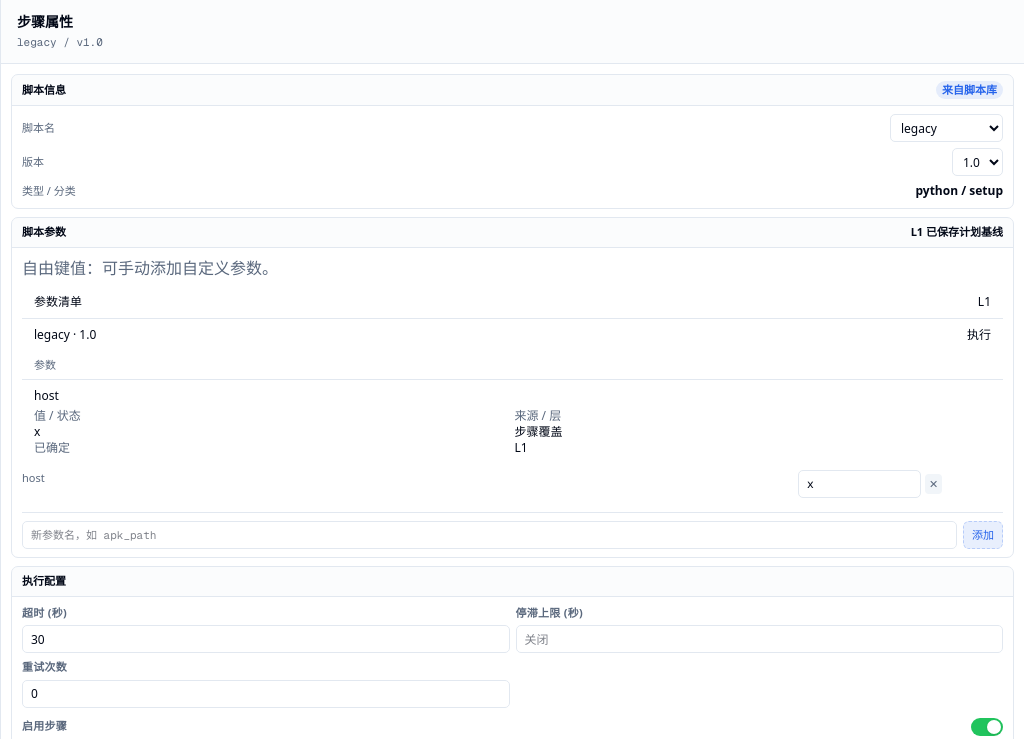
Scenario: PlanStepInspector › 参数表单 › 新增自由键与已存在键重名时报错
Type "host" into the field labelled "新参数名".
click(490, 535); type("host")  # box x1=22 y1=521 x2=957 y2=549
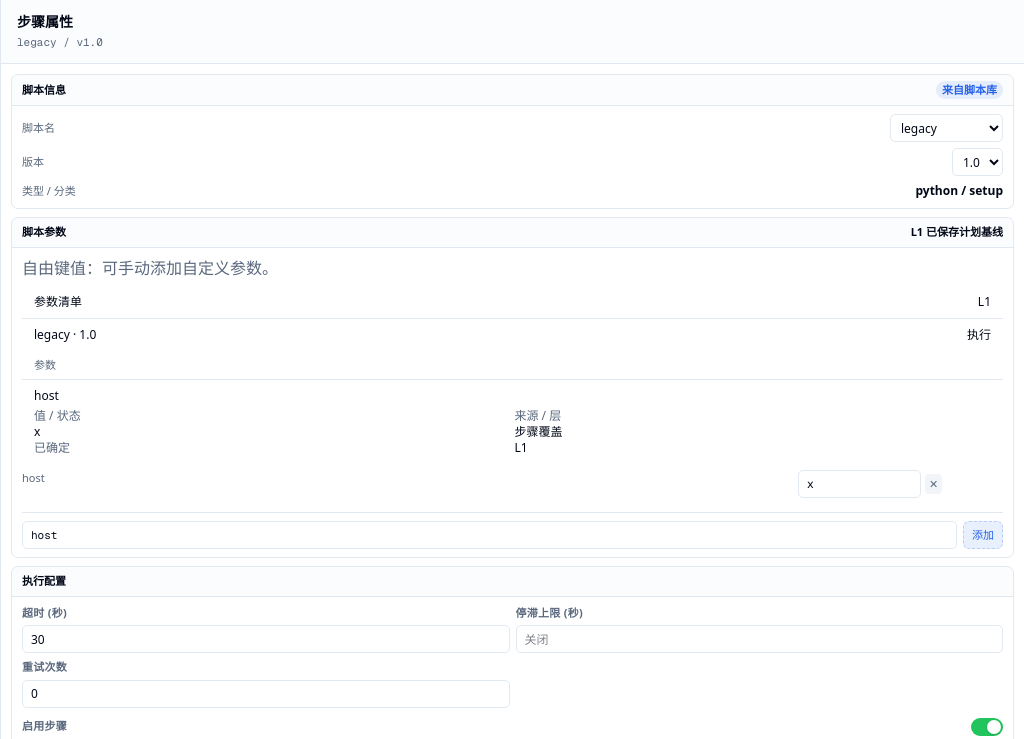
Click the button "添加".
click(983, 535)  # box x1=963 y1=521 x2=1003 y2=549
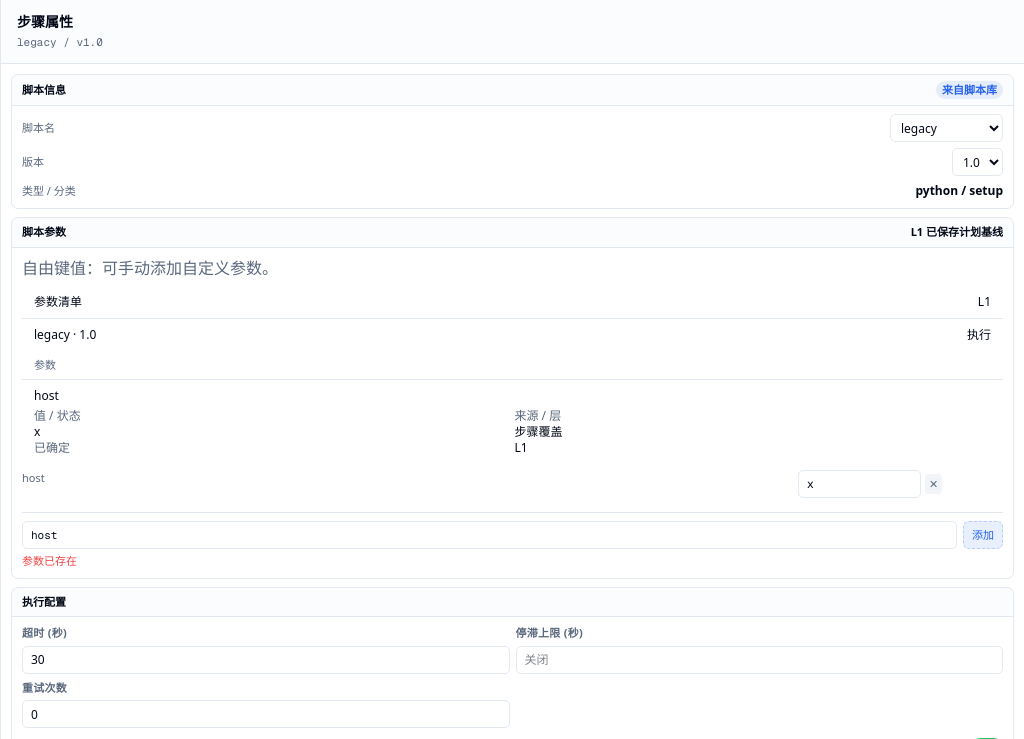
Check: the text "参数已存在" is shown, box x1=22 y1=553 x2=77 y2=568
